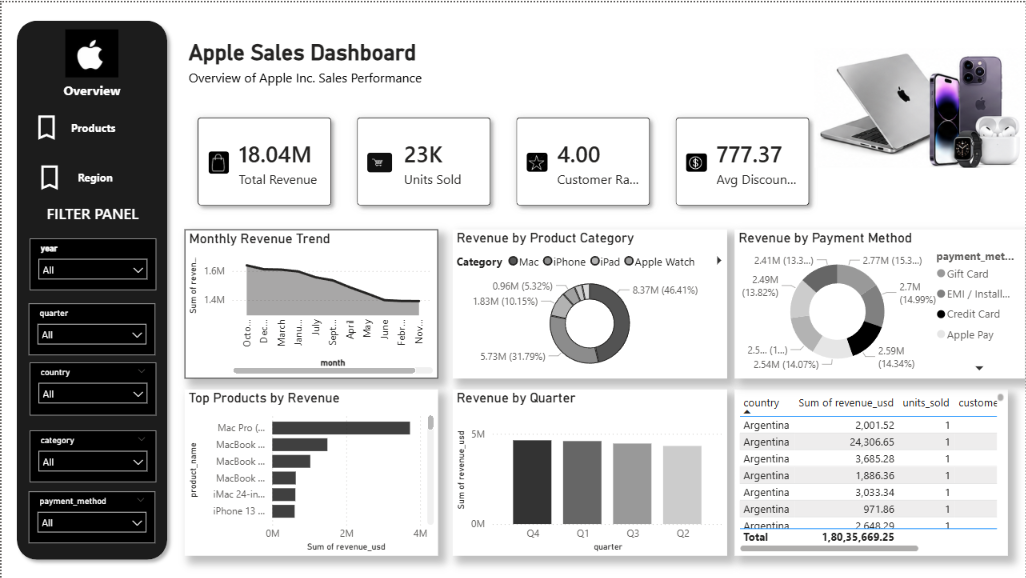

Layout of this report page (visuals, bound fields, positions):
{"tool":"powerbi","page":{"name":"Page 1","canvas":[1280,720],"ordinal":0},"visuals":[{"type":"shape","box":[10,14,206,692],"z":0},{"type":"textbox","box":[33.3,93.3,158.3,43.3],"z":1000},{"type":"cardVisual","fields":{"Data":["Sum(apple_global_sales_dataset.revenue_usd)","Sum(apple_global_sales_dataset.units_sold)","Avg(apple_global_sales_dataset.customer_rating)","Avg(apple_global_sales_dataset.discounted_price_usd)"]},"box":[216.7,115,823.3,168.3],"z":2000},{"type":"textbox","title":"Apple Sales Dashboard","box":[228.3,46.7,725,78.3],"z":3000},{"type":"lineChart","title":"Monthly Revenue Trend","fields":{"Y":["Sum(apple_global_sales_dataset.revenue_usd)"],"Category":["apple_global_sales_dataset.month"]},"box":[228.3,283.3,316.7,186.7],"z":4000},{"type":"donutChart","title":"Revenue by Product Category","fields":{"Category":["apple_global_sales_dataset.category"],"Y":["Sum(apple_global_sales_dataset.revenue_usd)"]},"box":[563.3,283.3,343.3,186.7],"z":5000},{"type":"barChart","title":"Top Products by Revenue","fields":{"Y":["Sum(apple_global_sales_dataset.revenue_usd)"],"Category":["apple_global_sales_dataset.product_name"]},"box":[228.3,483.3,316.7,208.3],"z":6000},{"type":"columnChart","title":"Revenue by Quarter","fields":{"Category":["apple_global_sales_dataset.quarter"],"Y":["Sum(apple_global_sales_dataset.revenue_usd)"]},"box":[563.3,483.3,343.3,208.3],"z":7000},{"type":"slicer","fields":{"Values":["apple_global_sales_dataset.year","apple_global_sales_dataset.quarter","apple_global_sales_dataset.country","apple_global_sales_dataset.category","apple_global_sales_dataset.payment_method"]},"box":[35,295,158.3,65],"z":8000},{"type":"tableEx","fields":{"Values":["apple_global_sales_dataset.country","Sum(apple_global_sales_dataset.revenue_usd)","apple_global_sales_dataset.units_sold","apple_global_sales_dataset.customer_rating","apple_global_sales_dataset.return_status"]},"box":[916.7,483.3,341.7,208.3],"z":9000},{"type":"image","box":[61.7,33.3,103.3,60],"z":10000},{"type":"image","box":[1016.7,5,263.3,253.3],"z":11000},{"type":"slicer","fields":{"Values":["apple_global_sales_dataset.year","apple_global_sales_dataset.quarter","apple_global_sales_dataset.country","apple_global_sales_dataset.category","apple_global_sales_dataset.payment_method"]},"box":[33.3,376.7,158.3,65],"z":12000},{"type":"slicer","fields":{"Values":["apple_global_sales_dataset.year","apple_global_sales_dataset.quarter","apple_global_sales_dataset.country","apple_global_sales_dataset.category","apple_global_sales_dataset.payment_method"]},"box":[35,450,158.3,66.7],"z":13000},{"type":"slicer","fields":{"Values":["apple_global_sales_dataset.year","apple_global_sales_dataset.quarter","apple_global_sales_dataset.country","apple_global_sales_dataset.category","apple_global_sales_dataset.payment_method"]},"box":[35,535,158.3,65],"z":14000},{"type":"slicer","fields":{"Values":["apple_global_sales_dataset.year","apple_global_sales_dataset.quarter","apple_global_sales_dataset.country","apple_global_sales_dataset.category","apple_global_sales_dataset.payment_method"]},"box":[33.3,611.7,158.3,65],"z":15000},{"type":"donutChart","title":"Revenue by Payment Method","fields":{"Category":["apple_global_sales_dataset.payment_method"],"Y":["Sum(apple_global_sales_dataset.revenue_usd)"]},"box":[916.7,283.3,363.3,186.7],"z":16000},{"type":"textbox","box":[33.3,246.7,160,36.7],"z":17000},{"type":"actionButton","box":[36.7,136.7,156.7,40],"z":18000},{"type":"actionButton","box":[40,198.6,154.3,40],"z":19000}]}

Visuals, with their boxes in screenshot pixels (x1, y1, x2, y2), scaled from the page's 1280x720 canvas onto the 1026x578 screenshot:
shape: {"x1": 8, "y1": 11, "x2": 173, "y2": 567}
textbox: {"x1": 27, "y1": 75, "x2": 154, "y2": 110}
cardVisual - Sum(apple_global_sales_dataset.revenue_usd) x Sum(apple_global_sales_dataset.units_sold): {"x1": 174, "y1": 92, "x2": 834, "y2": 227}
"Apple Sales Dashboard" textbox: {"x1": 183, "y1": 37, "x2": 764, "y2": 100}
"Monthly Revenue Trend" lineChart: {"x1": 183, "y1": 227, "x2": 437, "y2": 377}
"Revenue by Product Category" donutChart: {"x1": 452, "y1": 227, "x2": 727, "y2": 377}
"Top Products by Revenue" barChart: {"x1": 183, "y1": 388, "x2": 437, "y2": 555}
"Revenue by Quarter" columnChart: {"x1": 452, "y1": 388, "x2": 727, "y2": 555}
slicer - apple_global_sales_dataset.year x apple_global_sales_dataset.quarter: {"x1": 28, "y1": 237, "x2": 155, "y2": 289}
tableEx - apple_global_sales_dataset.country x Sum(apple_global_sales_dataset.revenue_usd): {"x1": 735, "y1": 388, "x2": 1009, "y2": 555}
image: {"x1": 49, "y1": 27, "x2": 132, "y2": 75}
image: {"x1": 815, "y1": 4, "x2": 1025, "y2": 207}
slicer - apple_global_sales_dataset.year x apple_global_sales_dataset.quarter: {"x1": 27, "y1": 302, "x2": 154, "y2": 355}
slicer - apple_global_sales_dataset.year x apple_global_sales_dataset.quarter: {"x1": 28, "y1": 361, "x2": 155, "y2": 415}
slicer - apple_global_sales_dataset.year x apple_global_sales_dataset.quarter: {"x1": 28, "y1": 429, "x2": 155, "y2": 482}
slicer - apple_global_sales_dataset.year x apple_global_sales_dataset.quarter: {"x1": 27, "y1": 491, "x2": 154, "y2": 543}
"Revenue by Payment Method" donutChart: {"x1": 735, "y1": 227, "x2": 1025, "y2": 377}
textbox: {"x1": 27, "y1": 198, "x2": 155, "y2": 228}
actionButton: {"x1": 29, "y1": 110, "x2": 155, "y2": 142}
actionButton: {"x1": 32, "y1": 159, "x2": 156, "y2": 192}
